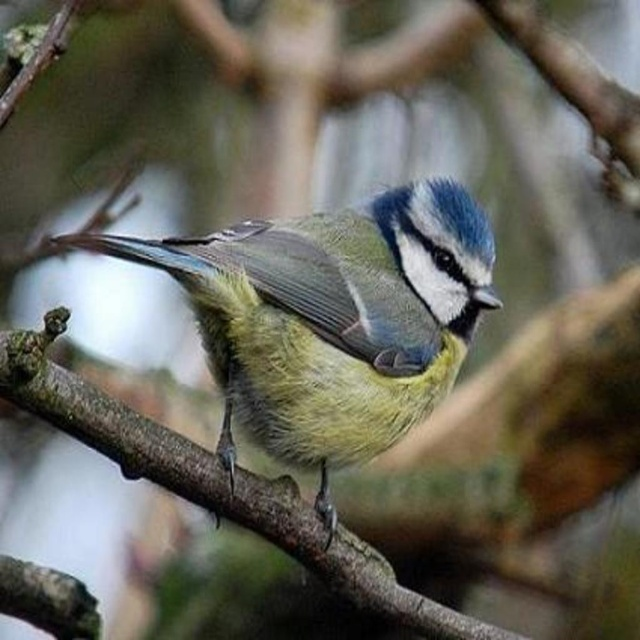Sparrow: (50, 174, 504, 554)
